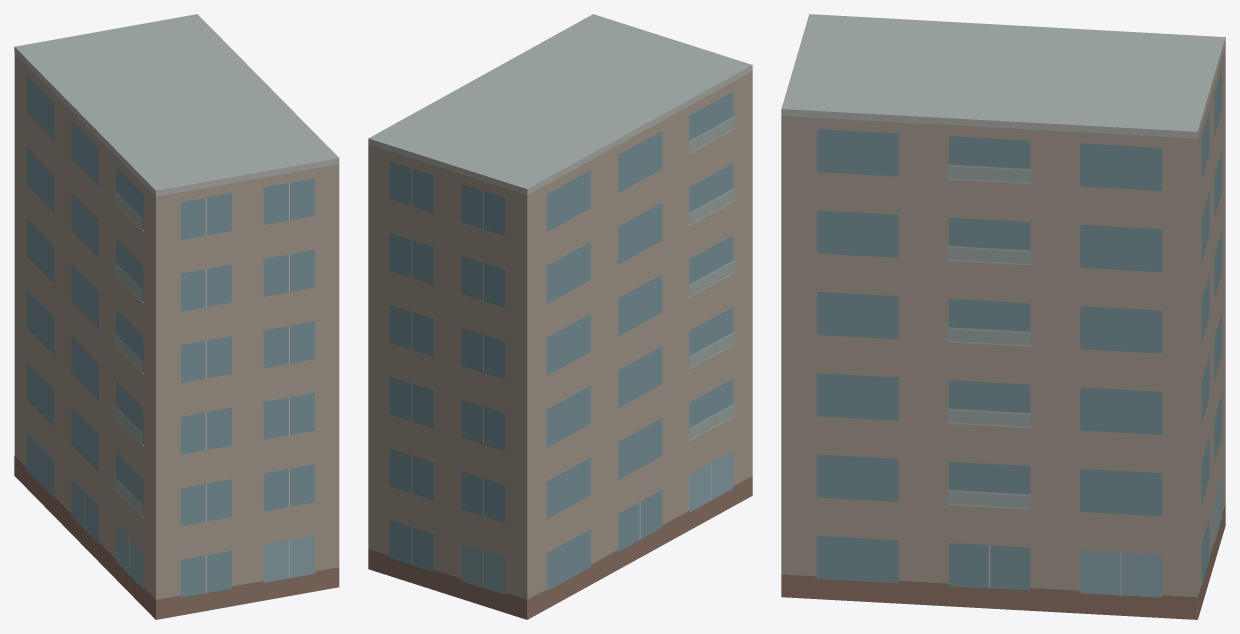
Rendered from survey-upis-32974942.glb.
3 renders of one model, left to right at view 1: azimuth 30°, elevation 25°; view 2: azimuth 150°, elevation 25°; view 3: azimuth 270°, elevation 25°, orthographic. The views are drawn at different scales.
Visible parts, largest first — view 1: survey-upis-32974942.tmp; view 2: survey-upis-32974942.tmp; view 3: survey-upis-32974942.tmp.
Part boxes in pixels (x1,y1,x2,y2): survey-upis-32974942.tmp: (14,14,339,619); survey-upis-32974942.tmp: (368,14,752,619); survey-upis-32974942.tmp: (781,14,1225,619).
Size of the model in its own units: 8.94 by 17.25 by 14.24.
